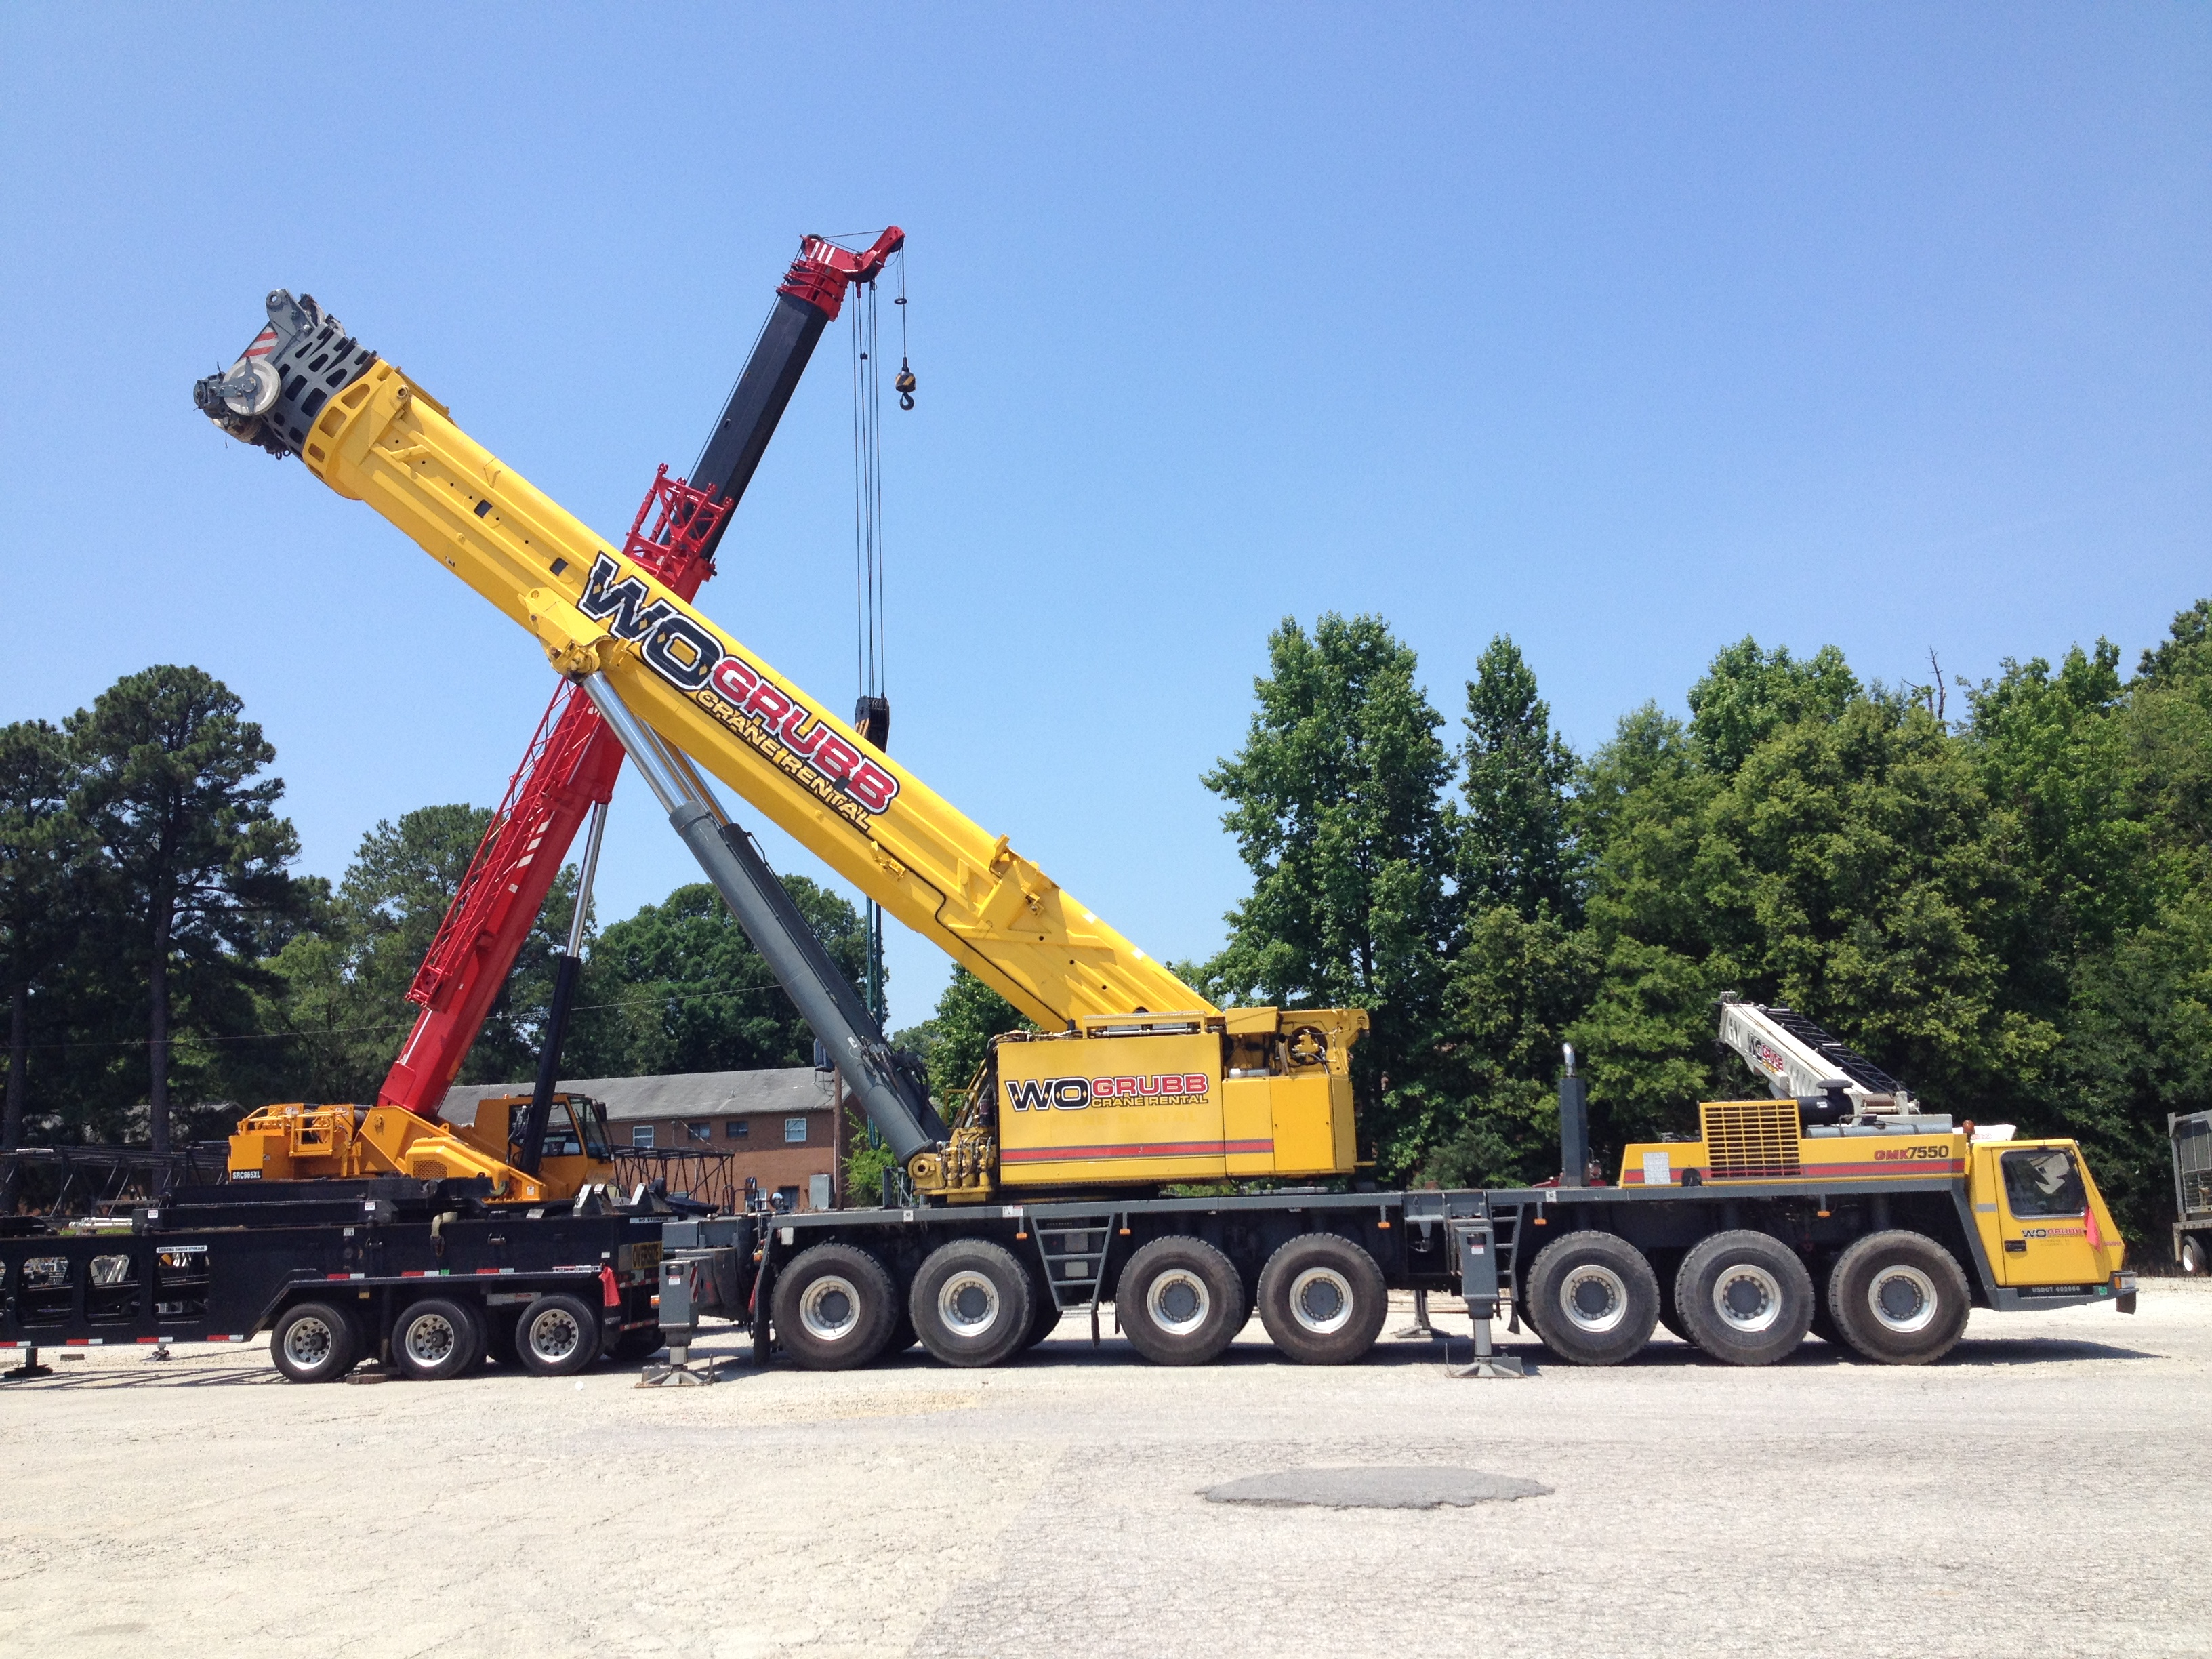crane: (185, 272, 2155, 1385)
